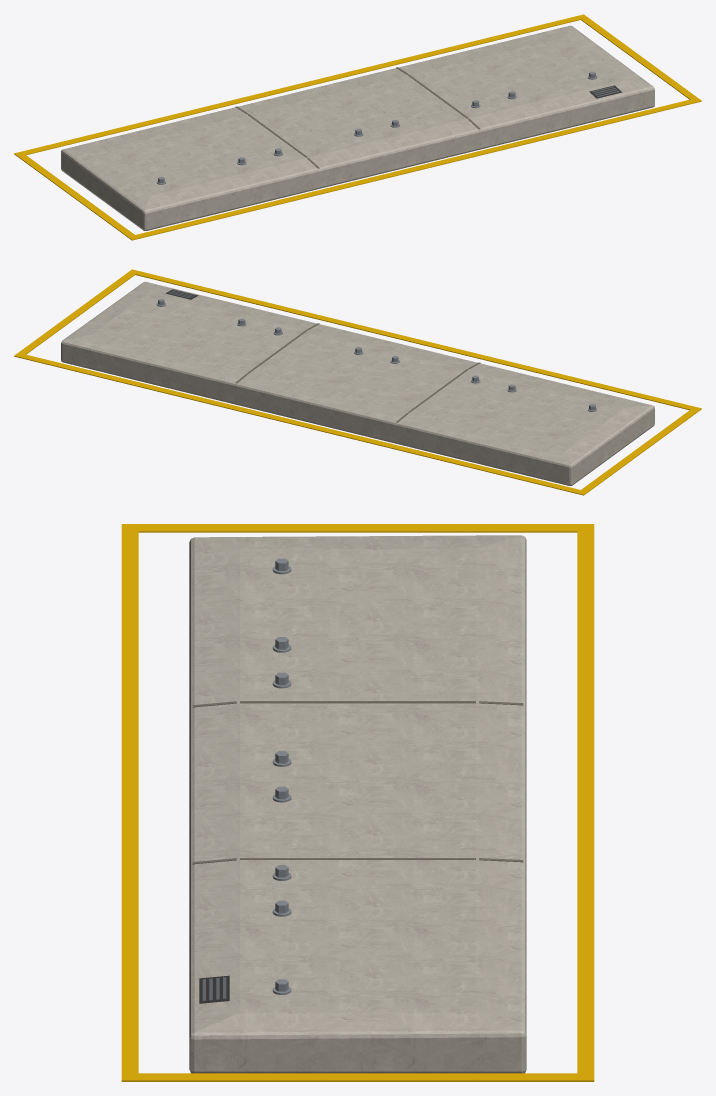
3 renders of one model, top to bottom at view 1: azimuth 30°, elevation 25°; view 2: azimuth 150°, elevation 25°; view 3: azimuth 270°, elevation 25°, orthographic. The views are drawn at different scales.
Visible parts, largest first — view 1: Storage_Base_Platform, Warning_Line_South, Warning_Line_North, Warning_Line_East, Warning_Line_West; view 2: Storage_Base_Platform, Warning_Line_North, Warning_Line_South, Warning_Line_East, Warning_Line_West; view 3: Storage_Base_Platform, Warning_Line_North, Warning_Line_South, Warning_Line_East, Warning_Line_West.
Part boxes in pixels (x1,y1,x2,y2): Storage_Base_Platform: (61,25,654,230); Warning_Line_South: (128,97,701,240); Warning_Line_North: (14,14,587,156); Warning_Line_East: (580,17,697,99); Warning_Line_West: (18,154,134,237); Storage_Base_Platform: (61,281,654,485); Warning_Line_North: (14,352,587,495); Warning_Line_South: (128,269,701,411); Warning_Line_East: (18,272,135,354); Warning_Line_West: (581,409,697,492); Storage_Base_Platform: (189,535,526,1073); Warning_Line_North: (577,524,594,1081); Warning_Line_South: (121,524,138,1081); Warning_Line_East: (138,1073,577,1081); Warning_Line_West: (138,524,577,532).
Bounding box in the file's own units: 7.8 × 0.362 × 2.8.
6 materials, 1 textured.
